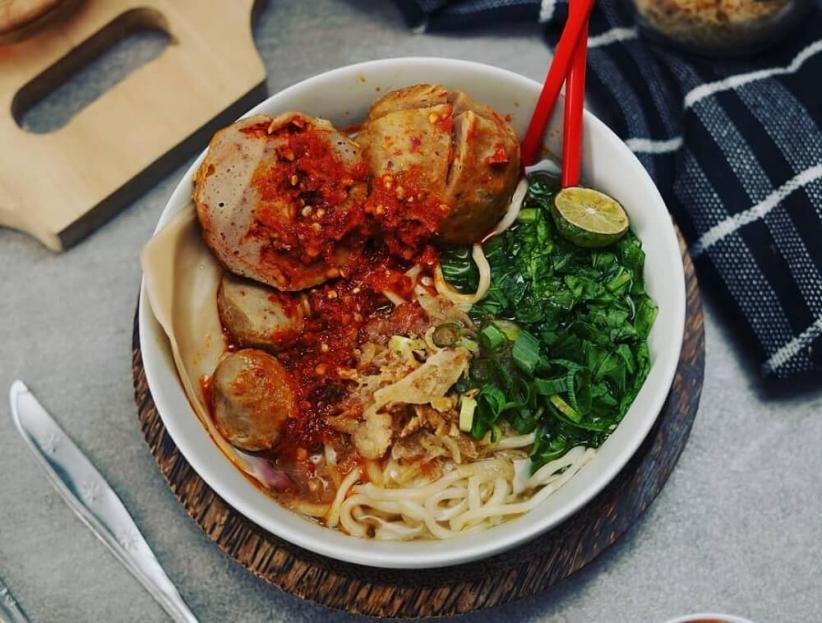bakso: (163, 68, 726, 544)
